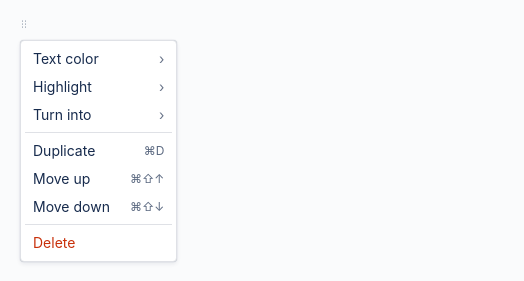
it: closes the color submenu after a pick but leaves the main menu open
Step 1. Click the menu item "Text color ›" → (99, 59), box [25,45,172,73]
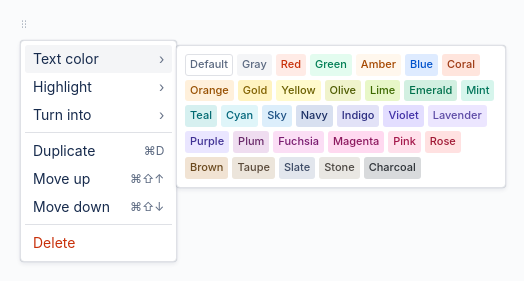
Step 2. Click the button "Green" → (331, 65), box [310,54,352,76]
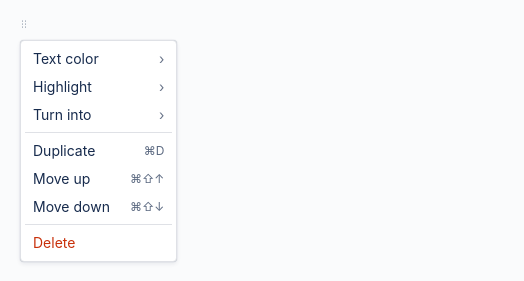
Expected: the menu item "Delete" is shown, [33,234,75,251]
Result: the button "Green" is gone
